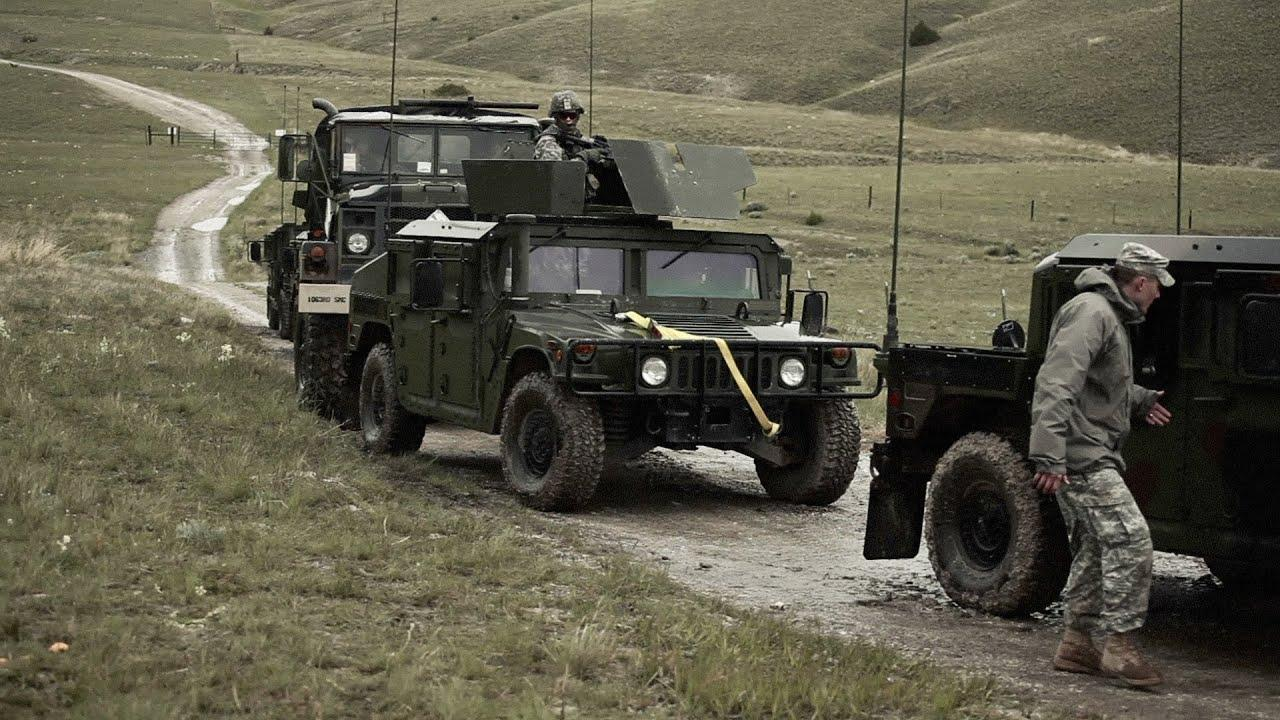armored_car: (345, 136, 884, 510), (862, 232, 1280, 620)
person: (1016, 237, 1188, 690)
truck: (249, 96, 557, 421)
